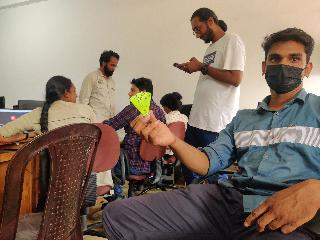shuttlecock: (129, 92, 151, 116)
